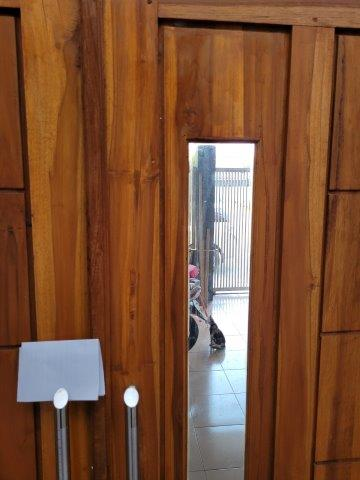kertas: (17, 338, 105, 401)
